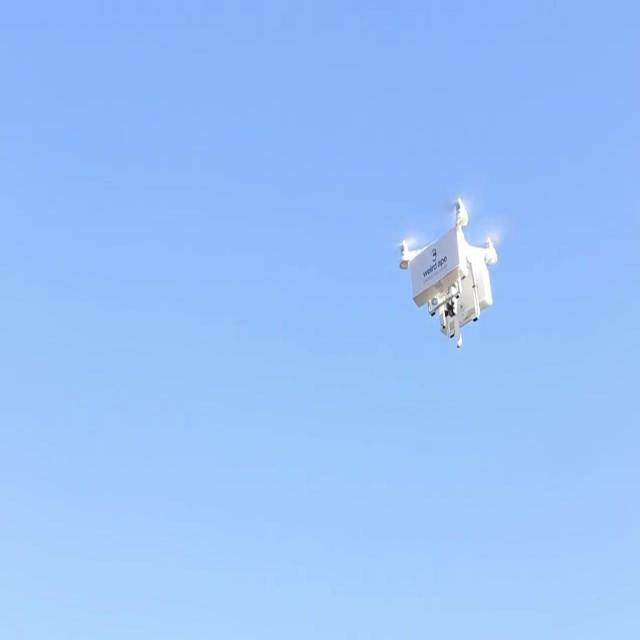UAV: (399, 198, 497, 350)
